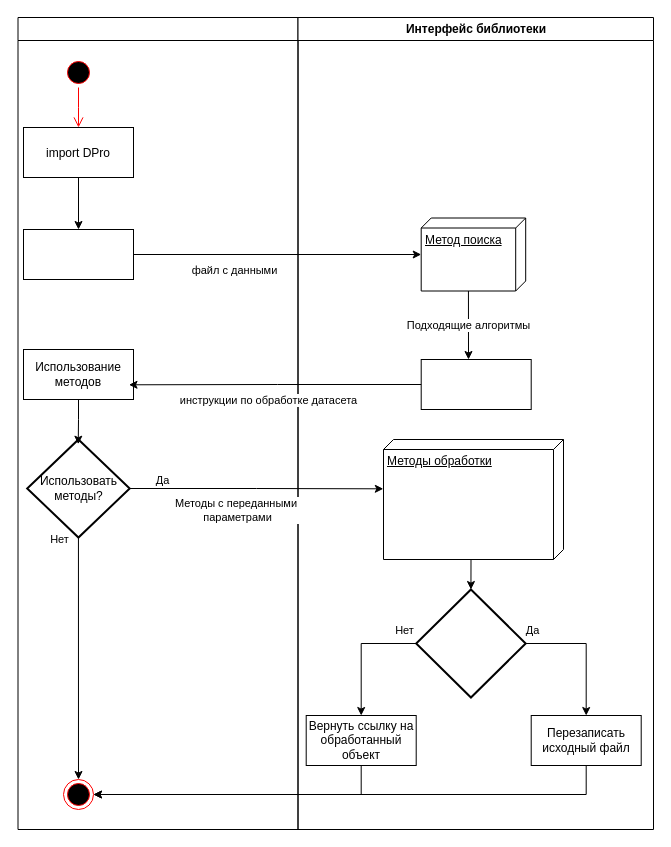
Image size: 671x847. Some labels were removed from this diagram. The box of each missing label's shape, as (x1, y1, x2, y2) in pixels:
Запрос требуемемой обработки: (22, 228, 134, 280)
Параметр inplace истина?: (415, 588, 526, 698)
Пользователь: (17, 16, 298, 830)
Формулировка ответа: (420, 358, 531, 410)
